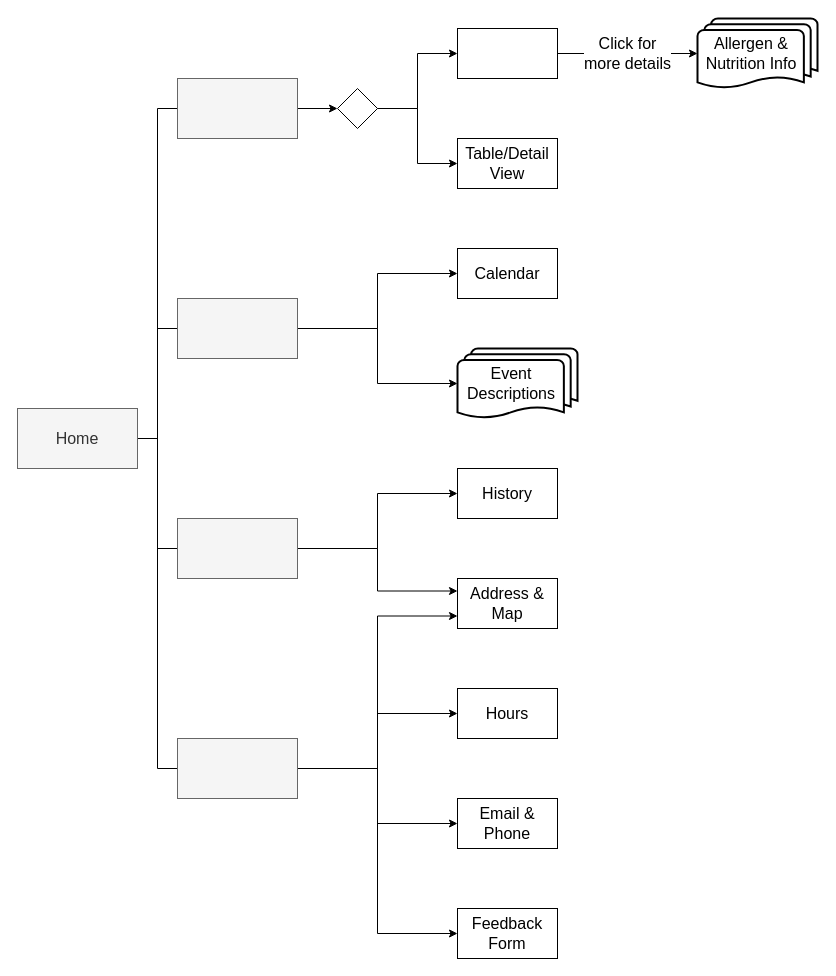
The diagram is 836 pixels wide and 976 high, and some of its shapes have lost their labels. Here are the shapes that lost their labels. From the top down, the centre of each, then its label:
At (507,53): "Card View".
At (237,108): "Menu".
At (237,328): "Events".
At (237,548): "About".
At (237,768): "Contact".
